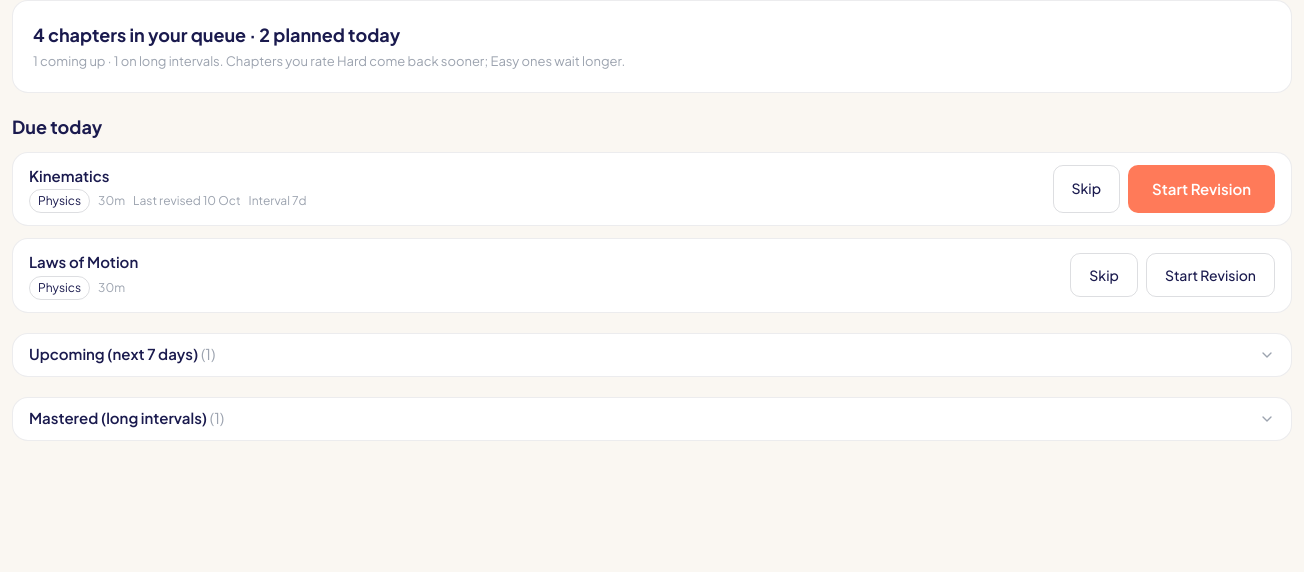
Test: Spaced Repetition tab › shows interval and last-revised for a due chapter, and groups upcoming chapters by day inside a collapsible
The width and height of the screenshot is (1304, 572).
Expected: the element with test id "sr-summary" is shown, [12, 0, 1292, 92]
Expected: the text "Interval 7d" is shown, [249, 192, 307, 210]
Click the button "Upcoming (next 7 days) (1)": click(114, 354) [12, 332, 1292, 376]
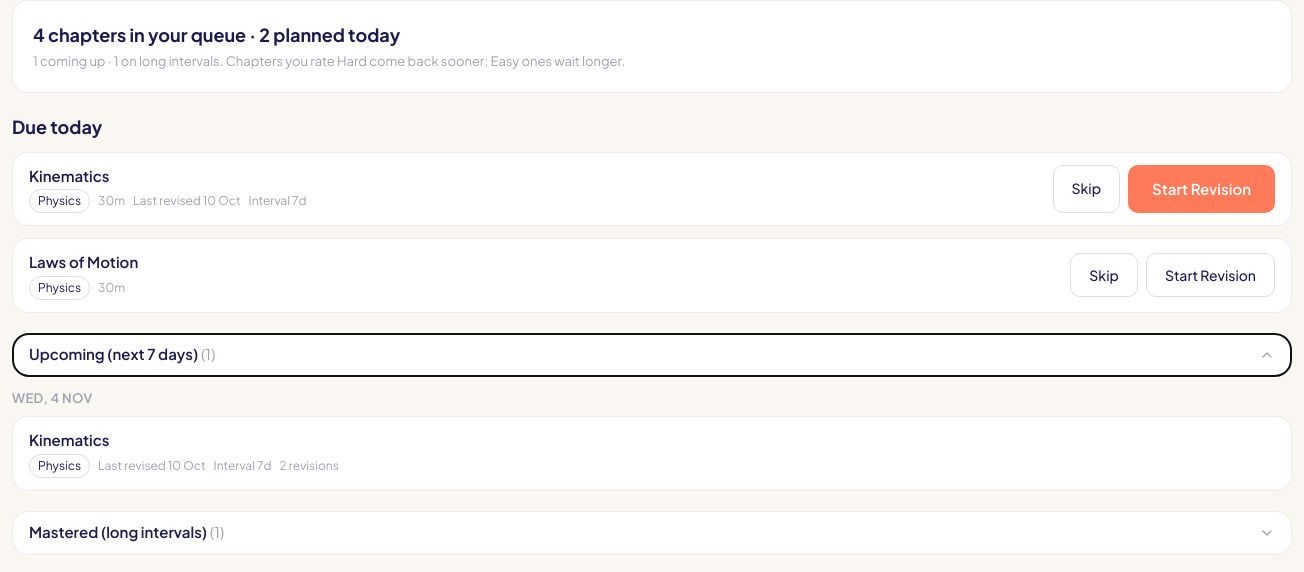
Result: the number of list items with test id "sr-chapter" is 1 at [12, 416, 1292, 490]
